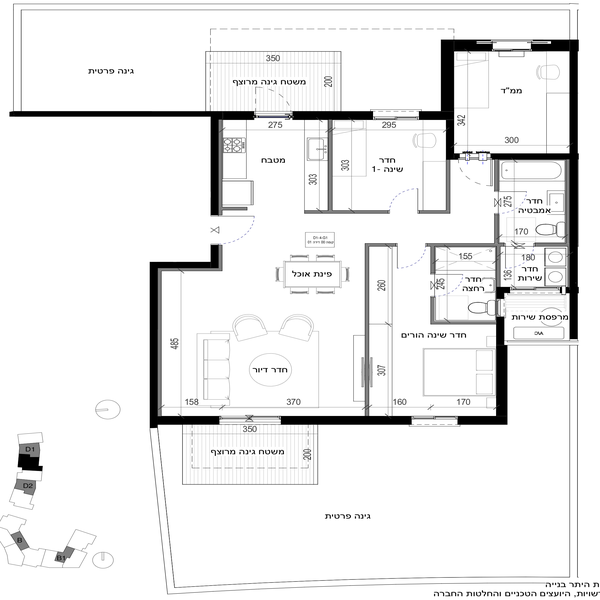door: (209, 210, 260, 246), (453, 147, 493, 191), (250, 84, 294, 122), (396, 237, 430, 275), (429, 267, 464, 298), (495, 186, 531, 213), (387, 186, 418, 216)
room: (143, 257, 374, 424), (365, 235, 507, 427), (441, 37, 577, 160), (494, 156, 580, 344), (208, 109, 337, 215), (325, 106, 449, 215)
wall: (567, 47, 579, 336), (12, 109, 253, 121), (149, 260, 162, 420), (209, 113, 226, 212), (362, 239, 371, 413), (283, 414, 413, 425), (440, 40, 456, 115), (497, 320, 509, 411), (292, 111, 371, 122), (151, 412, 217, 425), (327, 117, 335, 212), (164, 260, 222, 272), (430, 241, 493, 252), (449, 38, 494, 53), (495, 152, 567, 161), (495, 210, 503, 289), (460, 411, 508, 423), (529, 38, 576, 50), (444, 162, 451, 219), (428, 241, 438, 278), (492, 159, 503, 189), (309, 211, 385, 215), (433, 321, 492, 326), (420, 208, 450, 216), (428, 294, 436, 324), (423, 112, 448, 120), (537, 240, 564, 246), (370, 242, 395, 247)
window: (377, 105, 420, 124), (222, 413, 278, 427), (514, 284, 558, 298), (417, 414, 458, 428)
